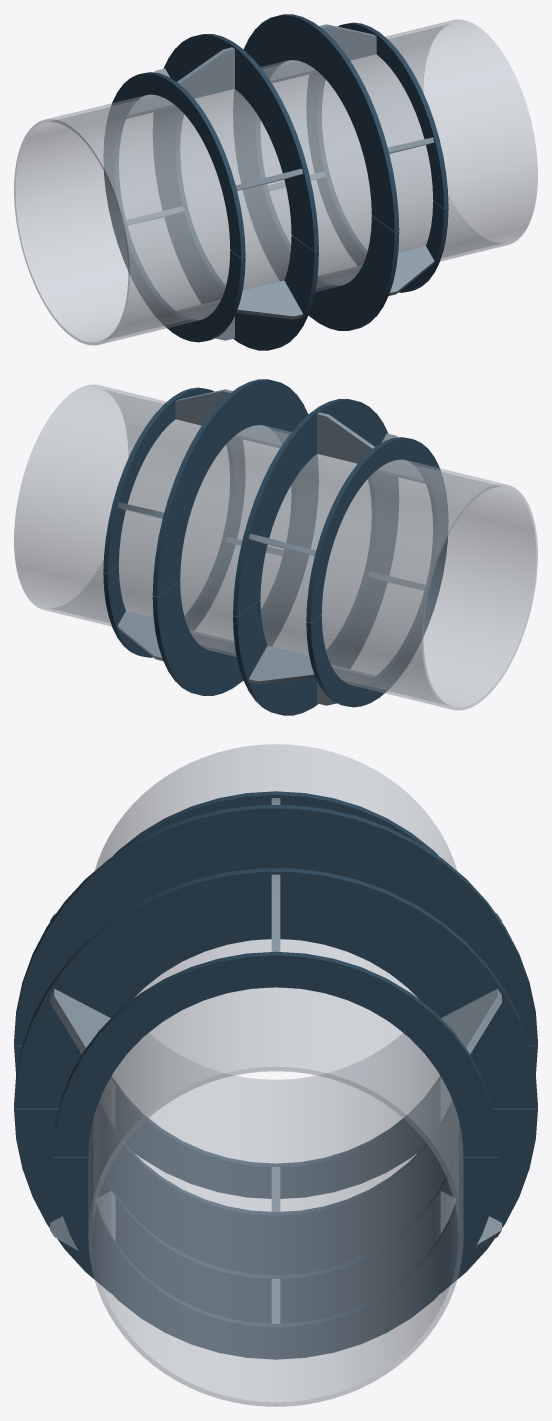
Rendered from TS-667.00.00-01-opora-dn530-D740.glb.
3 views of the same model, one above another, from view 1: azimuth 30°, elevation 25°; view 2: azimuth 150°, elevation 25°; view 3: azimuth 270°, elevation 25° (orthographic). The views are drawn at different scales.
Parts seen in each view (by area): view 1: truba, polukoltso_1, polukoltso_11, polukoltso_6, polukoltso_16, polukoltso_usil_10, polukoltso_usil_20, polukoltso_usil_5, polukoltso_usil_15, rebro_8, rebro_17, rebro_12 (+6 smaller); view 2: truba, polukoltso_1, polukoltso_11, polukoltso_6, polukoltso_16, polukoltso_usil_10, polukoltso_usil_20, polukoltso_usil_5, polukoltso_usil_15, rebro_8, rebro_19, rebro_14 (+6 smaller); view 3: truba, polukoltso_1, polukoltso_6, polukoltso_11, polukoltso_16, polukoltso_usil_5, polukoltso_usil_15, polukoltso_usil_20, polukoltso_usil_10, rebro_2, rebro_4, rebro_12 (+2 smaller).
Part boxes in pixels (left/top/right/bottom): truba: left=14, top=19, right=537, bottom=345; polukoltso_1: left=233, top=14, right=399, bottom=231; polukoltso_11: left=233, top=114, right=399, bottom=330; polukoltso_6: left=153, top=34, right=318, bottom=251; polukoltso_16: left=153, top=134, right=318, bottom=350; polukoltso_usil_10: left=103, top=72, right=245, bottom=257; polukoltso_usil_20: left=103, top=158, right=245, bottom=342; polukoltso_usil_5: left=306, top=22, right=448, bottom=208; polukoltso_usil_15: left=306, top=108, right=448, bottom=292; rebro_8: left=177, top=47, right=234, bottom=98; rebro_17: left=236, top=280, right=303, bottom=319; rebro_12: left=389, top=246, right=434, bottom=295; truba: left=14, top=384, right=537, bottom=710; polukoltso_1: left=152, top=379, right=318, bottom=596; polukoltso_11: left=152, top=479, right=318, bottom=695; polukoltso_6: left=233, top=399, right=398, bottom=616; polukoltso_16: left=233, top=499, right=398, bottom=715; polukoltso_usil_10: left=306, top=437, right=448, bottom=622; polukoltso_usil_20: left=306, top=523, right=448, bottom=707; polukoltso_usil_5: left=103, top=387, right=245, bottom=573; polukoltso_usil_15: left=103, top=473, right=245, bottom=657; rebro_8: left=317, top=412, right=374, bottom=463; rebro_19: left=248, top=645, right=315, bottom=684; rebro_14: left=117, top=611, right=162, bottom=660; truba: left=88, top=744, right=463, bottom=1406; polukoltso_1: left=14, top=868, right=537, bottom=1108; polukoltso_6: left=14, top=805, right=537, bottom=1044; polukoltso_11: left=14, top=1108, right=537, bottom=1323; polukoltso_16: left=14, top=1045, right=537, bottom=1275; polukoltso_usil_5: left=53, top=951, right=498, bottom=1156; polukoltso_usil_15: left=53, top=1157, right=498, bottom=1359; polukoltso_usil_20: left=110, top=1076, right=441, bottom=1198; polukoltso_usil_10: left=113, top=791, right=438, bottom=855; rebro_2: left=441, top=988, right=501, bottom=1054; rebro_4: left=50, top=988, right=110, bottom=1054; rebro_12: left=50, top=1191, right=115, bottom=1250.
Bounding box in the file's own units: 1078 × 739 × 740.
